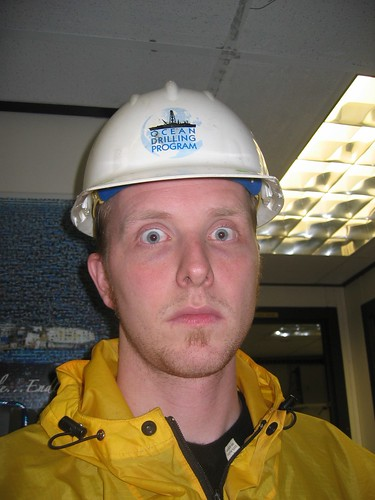person hardhat: (56, 76, 335, 500)
